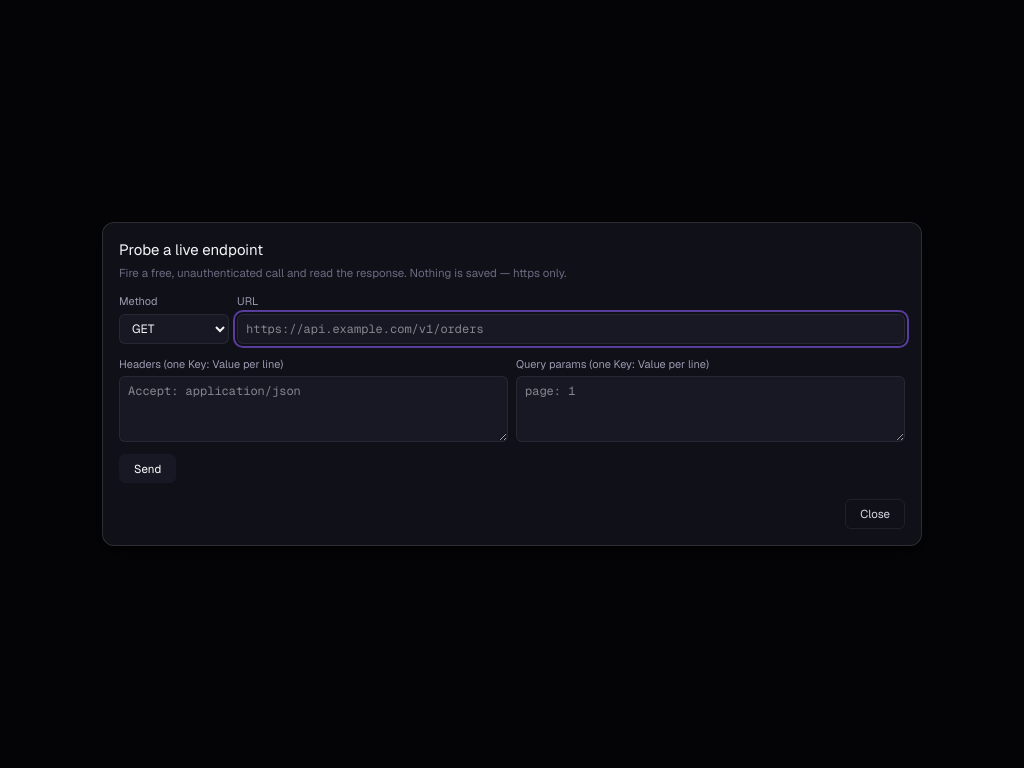
Test: FreeEndpointModal › blocks send on an empty URL and surfaces the error
The width and height of the screenshot is (1024, 768).
Step 1. Click the button with test id "api-probe-send" → (148, 469), box x1=119 y1=454 x2=176 y2=483
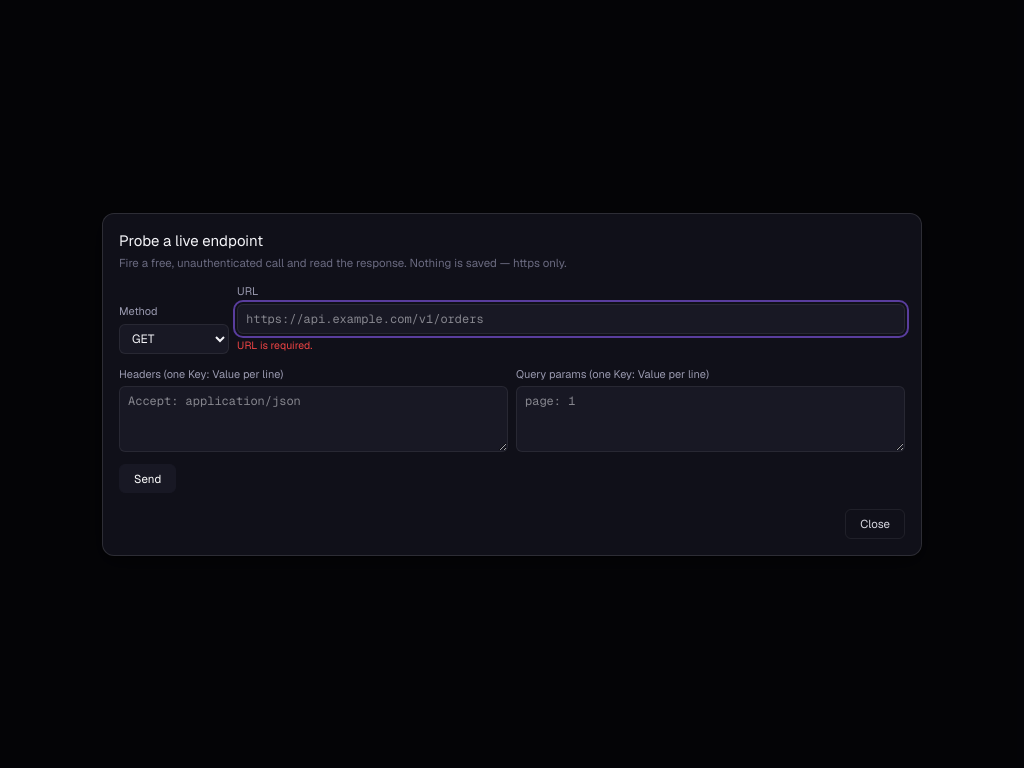
expect the message "URL is required." is shown: met, box x1=237 y1=338 x2=312 y2=352
